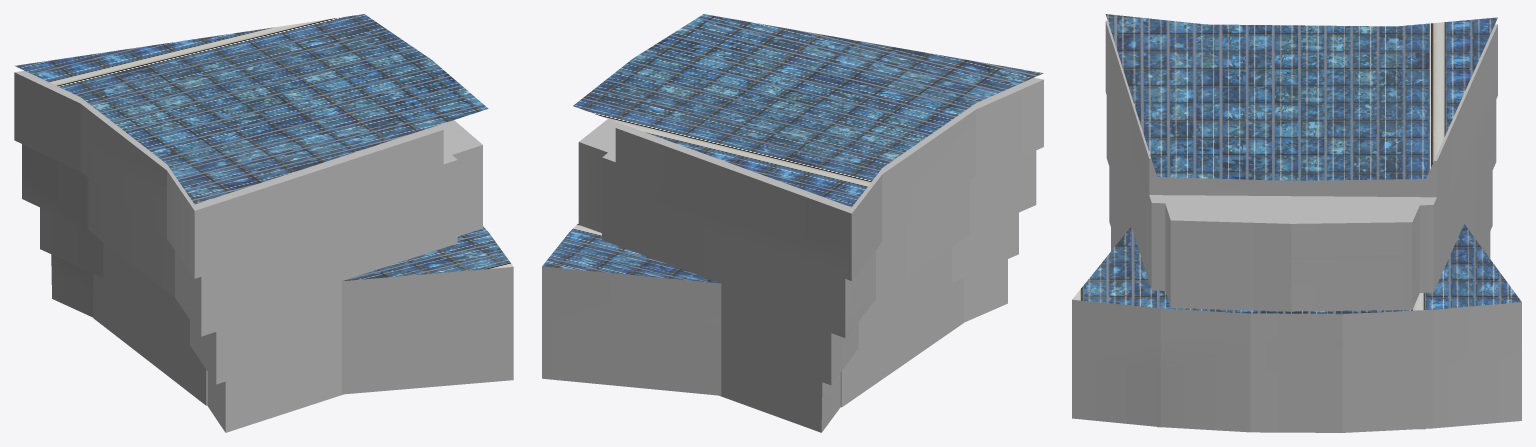
File: Building 1 (1).fbx
The picture shows the model from 3 angles, left to right: view 1: azimuth 30°, elevation 25°; view 2: azimuth 150°, elevation 25°; view 3: azimuth 270°, elevation 25°; orthographic projection. The views are drawn at different scales.
Visible parts, largest first — view 1: Building_1; view 2: Building_1; view 3: Building_1.
Boxes of the visible parts, x1,y1,x2,y2 form: Building_1: (14,14,513,432); Building_1: (542,14,1043,432); Building_1: (1072,14,1521,432).
Size of the model in its own units: 125 by 86.33 by 141.
